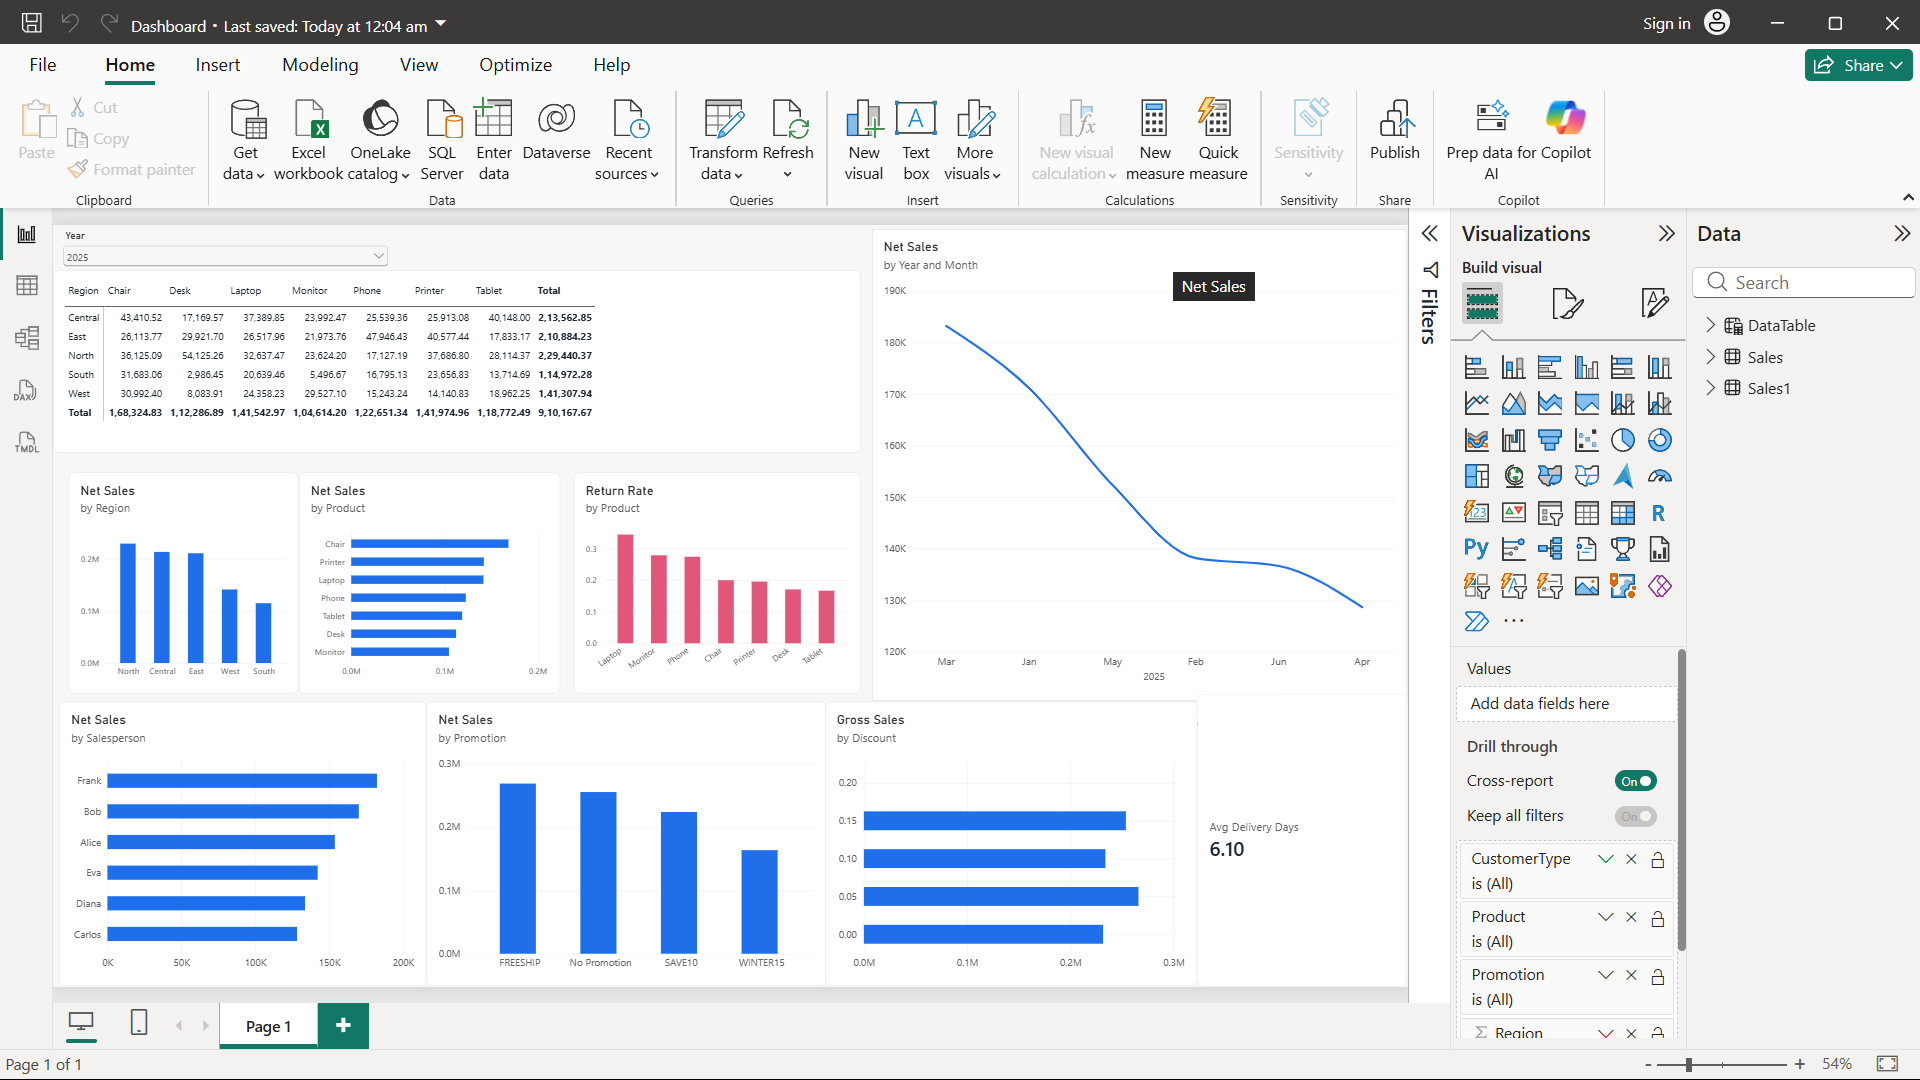

What the dashboard file says about the page in this screenshot:
{"tool":"powerbi","page":{"name":"Page 1","canvas":[1920,1080],"ordinal":0},"visuals":[{"type":"lineChart","fields":{"Category":["DataTable.Year","DataTable.Month"],"Y":["Sales.Net Sales"]},"box":[1160.7,5.3,759.1,670.6],"z":0},{"type":"clusteredColumnChart","fields":{"Y":["Sales.Net Sales"],"Category":["Sales.Region"]},"box":[23,350.3,325.6,313.2],"z":1000},{"type":"clusteredBarChart","fields":{"Category":["Sales.Product"],"Y":["Sales.Net Sales"]},"box":[348.6,350.3,369.8,313.2],"z":2000},{"type":"clusteredColumnChart","fields":{"Category":["Sales.Product"],"Y":["Sales.Return Rate"]},"box":[737.8,350.3,407,313.2],"z":3000},{"type":"barChart","fields":{"Category":["Sales.Salesperson"],"Y":["Sales.Net Sales"]},"box":[8.8,675.9,520.2,403.4],"z":4000},{"type":"columnChart","fields":{"Category":["Sales.Promotion"],"Y":["Sales.Net Sales"]},"box":[529.1,675.9,566.2,403.4],"z":5000},{"type":"clusteredBarChart","fields":{"Category":["Sales.Discount"],"Y":["Sales.Gross Sales"]},"box":[1095.3,675.9,527.3,403.4],"z":6000},{"type":"pivotTable","fields":{"Columns":["Sales.Product"],"Rows":["Sales.Region"],"Values":["Sales.Net Sales"]},"box":[0,65.5,1144.8,258.3],"z":7000},{"type":"cardVisual","fields":{"Data":["Sales.Avg Delivery Days"]},"box":[1622.5,663.5,297.3,415.8],"z":8000},{"type":"slicer","fields":{"Values":["DataTable.Year"]},"box":[8.8,5.3,470.7,120.3],"z":9000}]}

Visuals, with their boxes on the page's 1920x1080 design canvas (x1, y1, x2, y2). These are canvas units, not pixel positions in the 1920x1080 screenshot, which may show the page scaled, cropped or inside an application window:
lineChart - DataTable.Year x DataTable.Month: select_region(1161, 5, 1920, 676)
clusteredColumnChart - Sales.Net Sales x Sales.Region: select_region(23, 350, 349, 664)
clusteredBarChart - Sales.Product x Sales.Net Sales: select_region(349, 350, 718, 664)
clusteredColumnChart - Sales.Product x Sales.Return Rate: select_region(738, 350, 1145, 664)
barChart - Sales.Salesperson x Sales.Net Sales: select_region(9, 676, 529, 1079)
columnChart - Sales.Promotion x Sales.Net Sales: select_region(529, 676, 1095, 1079)
clusteredBarChart - Sales.Discount x Sales.Gross Sales: select_region(1095, 676, 1623, 1079)
pivotTable - Sales.Product x Sales.Region: select_region(0, 66, 1145, 324)
cardVisual - Sales.Avg Delivery Days: select_region(1622, 664, 1920, 1079)
slicer - DataTable.Year: select_region(9, 5, 480, 126)
